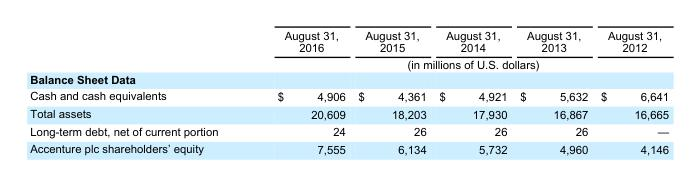table: (29, 29, 668, 155)
table column: (29, 29, 247, 155), (247, 29, 351, 155), (351, 29, 432, 155), (512, 29, 593, 155), (432, 29, 512, 155), (593, 29, 668, 155)
table column header: (29, 29, 668, 71)
table projected row header: (29, 71, 668, 87)
table row: (29, 29, 668, 55), (29, 104, 668, 122), (29, 87, 668, 104), (29, 122, 668, 139), (29, 55, 668, 71), (29, 71, 668, 87), (29, 139, 668, 155)
table spanning cell: (247, 55, 668, 71)
